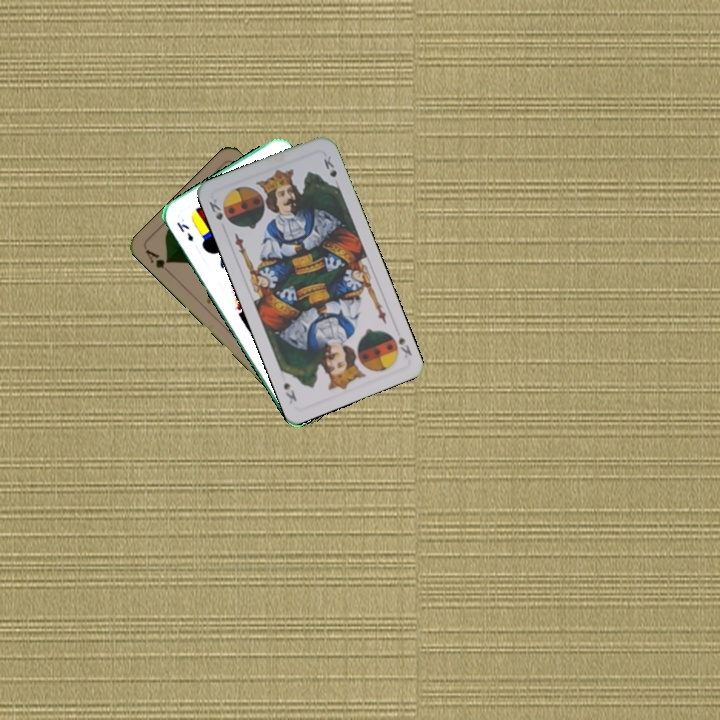EK: (173, 218, 196, 244)
GA: (141, 245, 173, 278)
SK: (394, 332, 415, 363), (205, 195, 226, 223)
